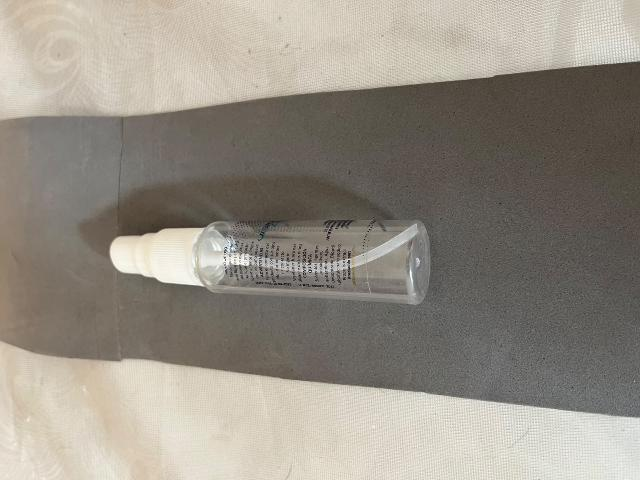PET: (65, 180, 480, 362)
